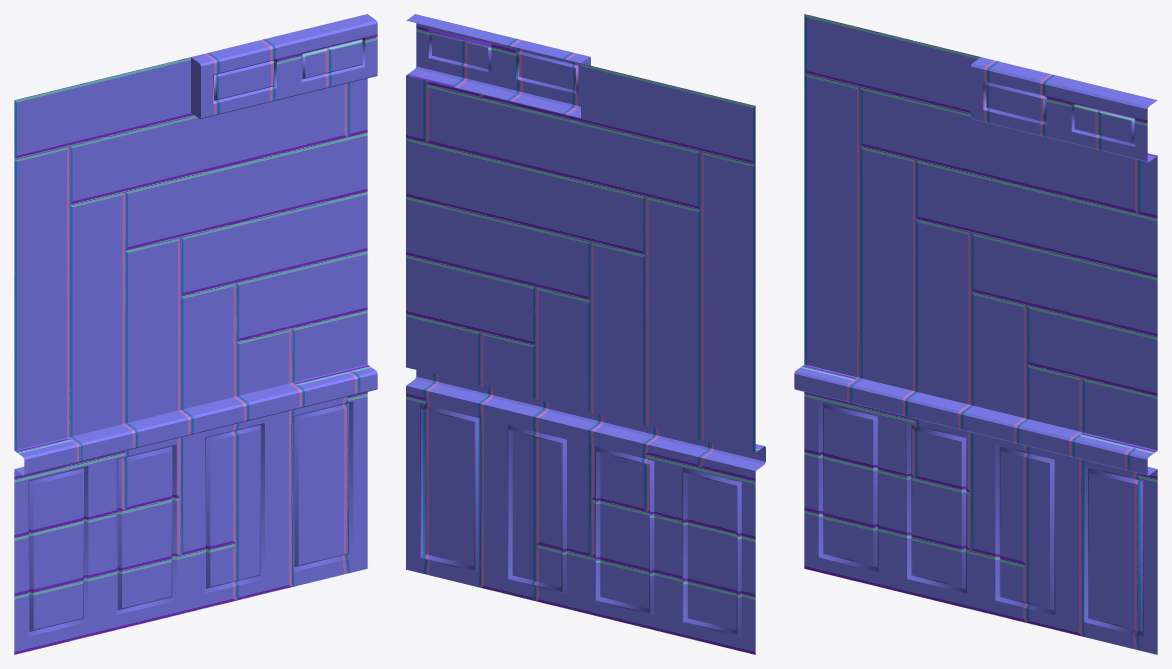
The model's file is Foyer Wall Stairs Right.fbx.
3 renders of one model, left to right at view 1: azimuth 30°, elevation 25°; view 2: azimuth 150°, elevation 25°; view 3: azimuth 330°, elevation 25°, orthographic.
Visible parts, largest first — view 1: Normal_Wall_Stairs_Right; view 2: Normal_Wall_Stairs_Right; view 3: Normal_Wall_Stairs_Right.
Part boxes in pixels (bbox=[...]): Normal_Wall_Stairs_Right: bbox=[14, 14, 377, 654]; Normal_Wall_Stairs_Right: bbox=[406, 14, 765, 654]; Normal_Wall_Stairs_Right: bbox=[794, 14, 1157, 654].
Size of the model in its own units: 200 by 300 by 11.67.
